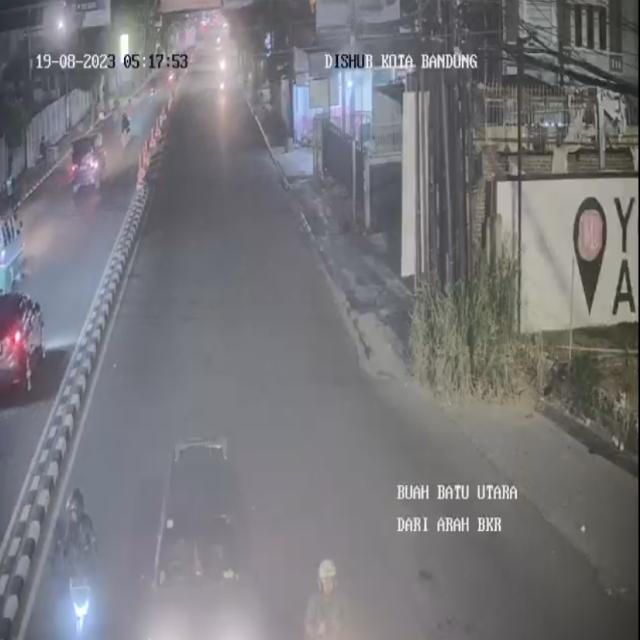cars: (150, 428, 260, 640)
motorcycle: (53, 480, 104, 640), (304, 559, 349, 640)
